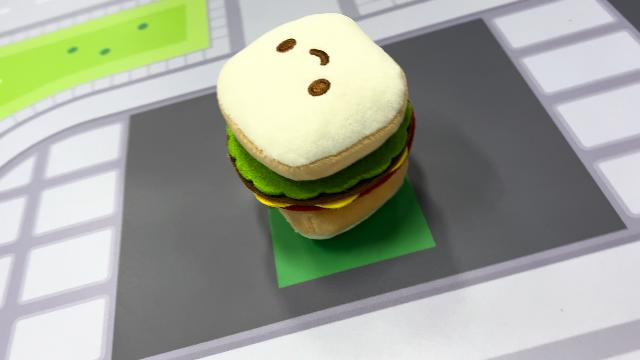sandwich: (214, 11, 418, 241)
